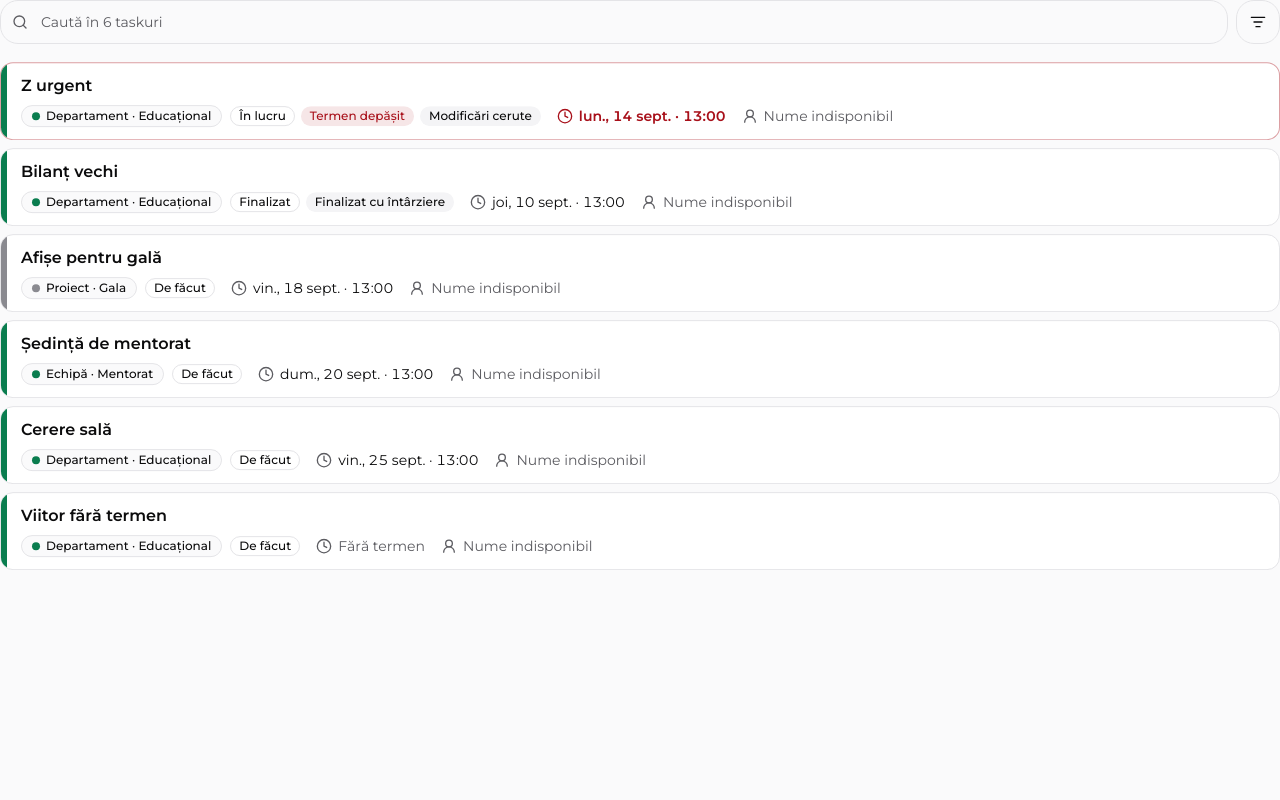
Scenario: ManagerTaskList › puts Stare and the order in the filter sheet as the app’s own controls, the search in the toolbar
The width and height of the screenshot is (1280, 800).
Expected: the search field named "Caută după titlu" is shown, top-left (0, 0), bottom-right (1228, 44)
Expected: the field labelled "Stare" is not shown
Click the button named "Filtrează" at (1258, 22), box top-left (1236, 0), bottom-right (1279, 44)
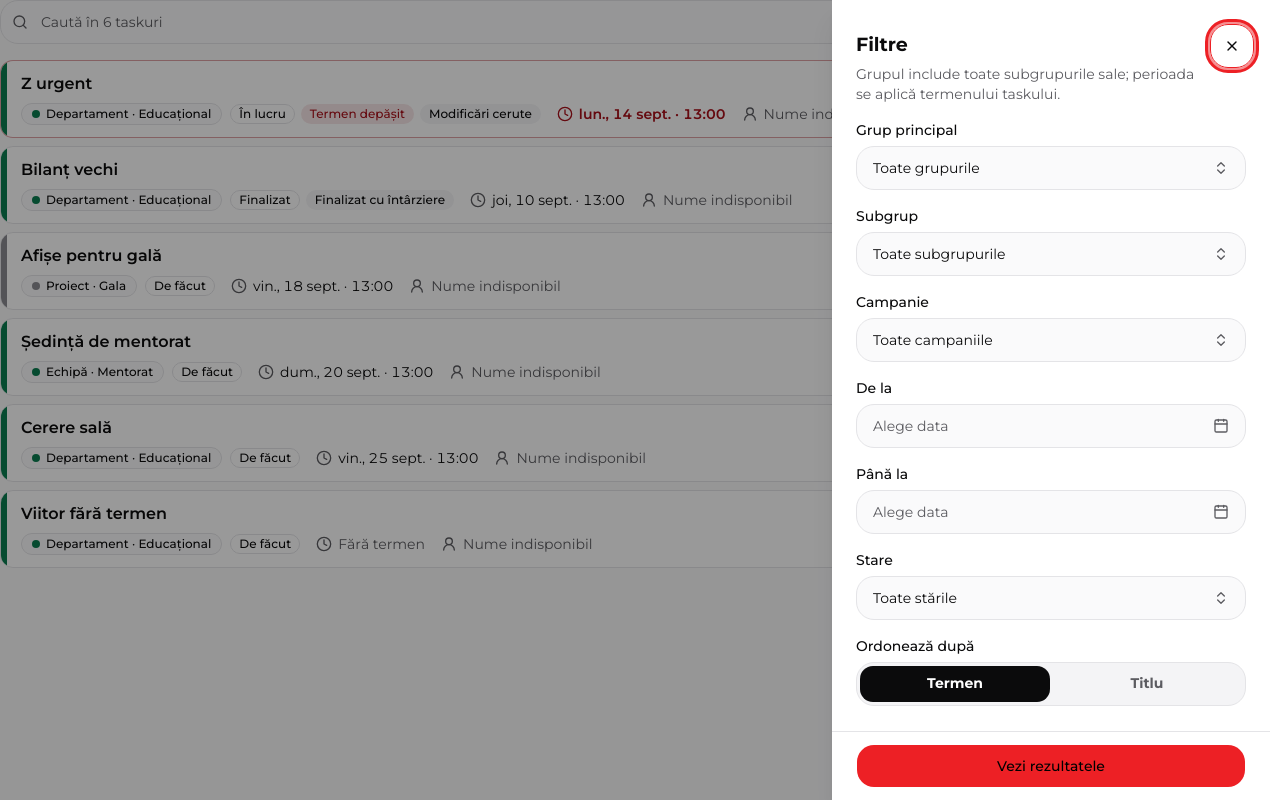
Now the radio buttons read "Termen", "Titlu", in this order, box top-left (927, 674), bottom-right (983, 692); top-left (1131, 674), bottom-right (1163, 692)
Now the radio button labelled "Termen" is checked, box top-left (927, 674), bottom-right (983, 692)
Now the dropdown named "Grup principal" is shown, box top-left (856, 146), bottom-right (1246, 190)
